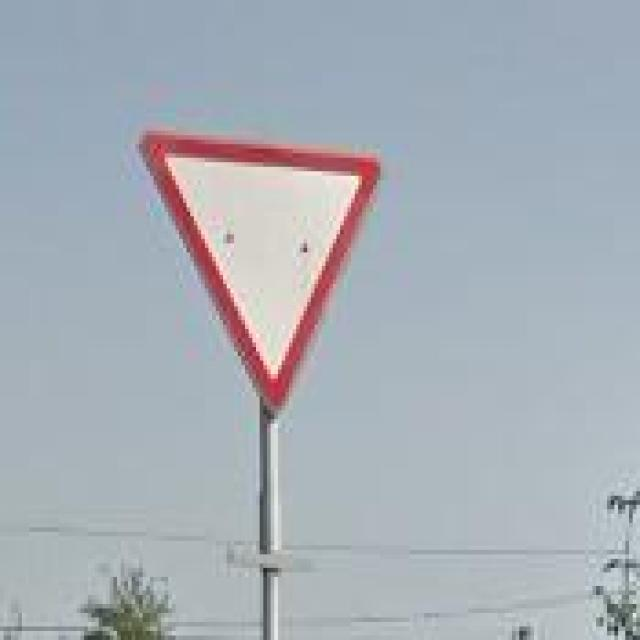traffic_sign: (143, 130, 380, 414)
